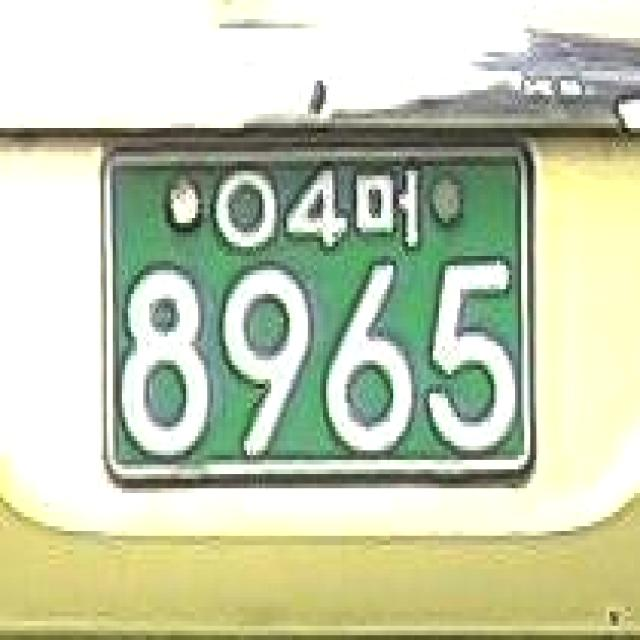illegal_plate: (81, 110, 554, 522)
